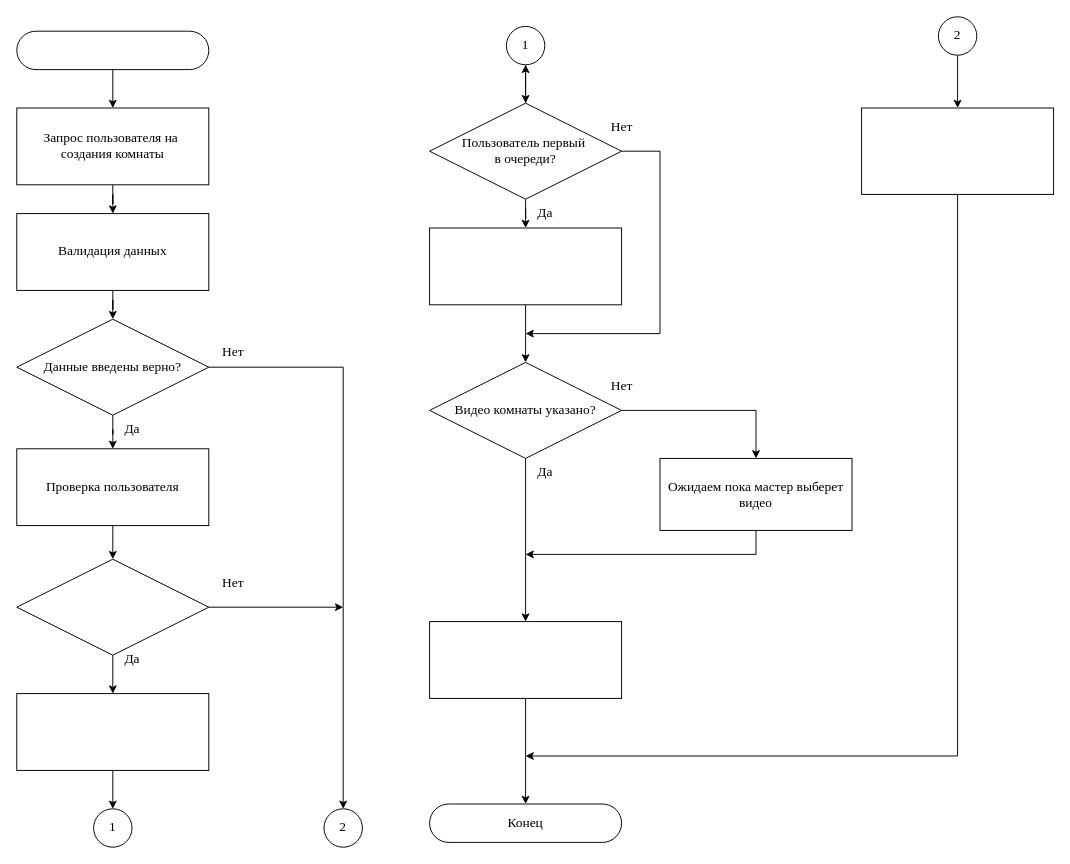
Some shapes in this 1070 by 864 pixel diagram are drawn without their labels. Each missing label, with the centre of its shape:
"Начало" goes at [112,50].
"Перенаправить пользователя на главную страницу" goes at [957,150].
"Перенаправление пользователя на страницу комнаты" goes at [112,731].
"Пользователь авторизован?" goes at [112,606].
"Присвоение пользователю прав мастера комнаты" goes at [525,266].
"Синхронизация пользователей с мастером" goes at [525,659].
